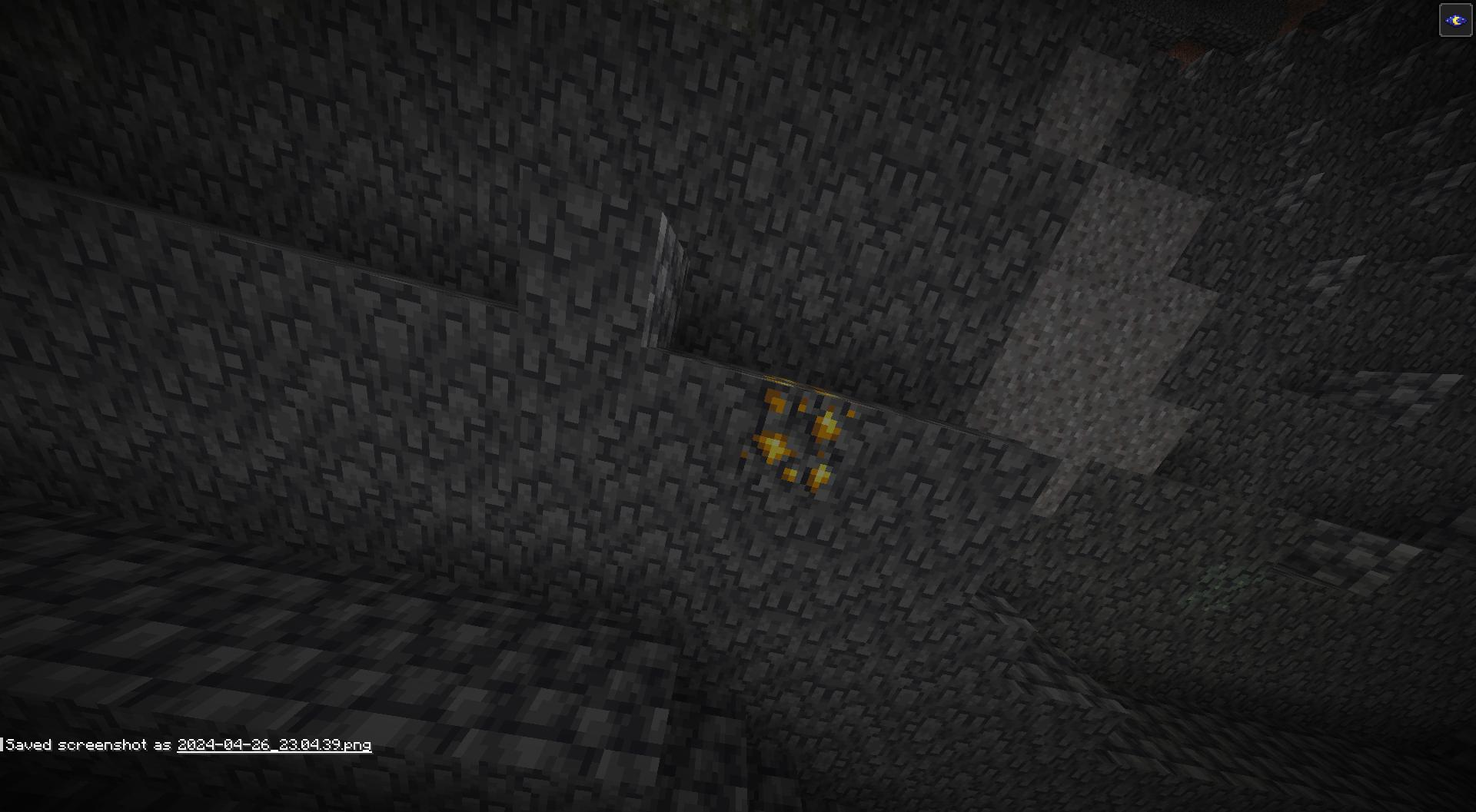gold ore: (745, 386, 849, 495)
